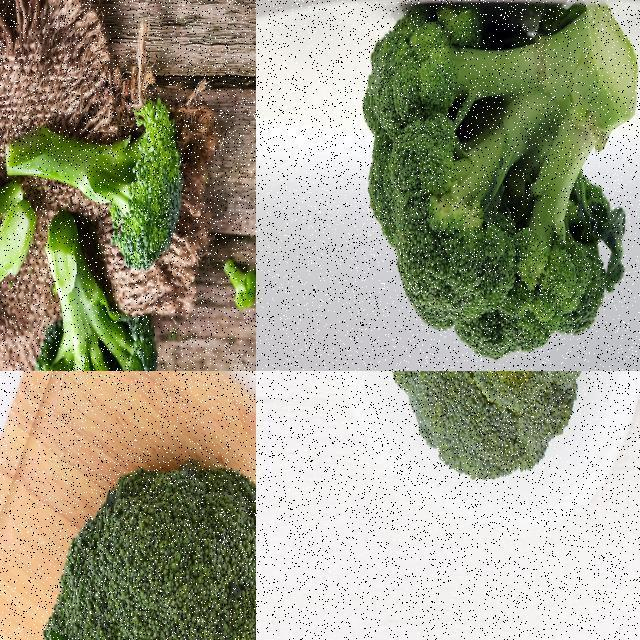broccoli: (356, 1, 640, 367), (40, 454, 255, 639), (6, 87, 190, 276), (387, 371, 586, 493), (29, 216, 160, 370), (0, 173, 38, 370)
